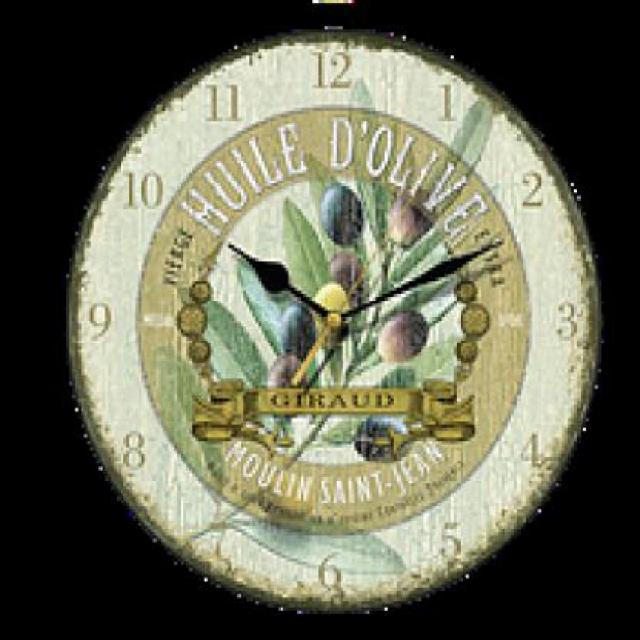clock: (75, 43, 583, 609)
